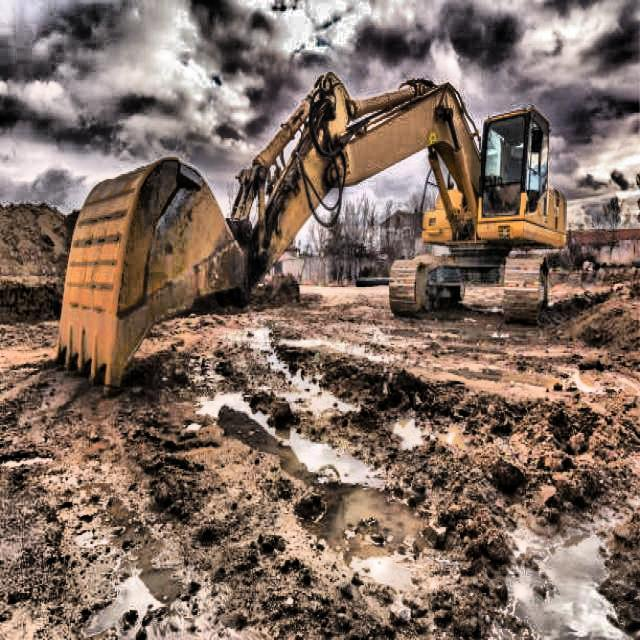excavator: (54, 69, 568, 397)
